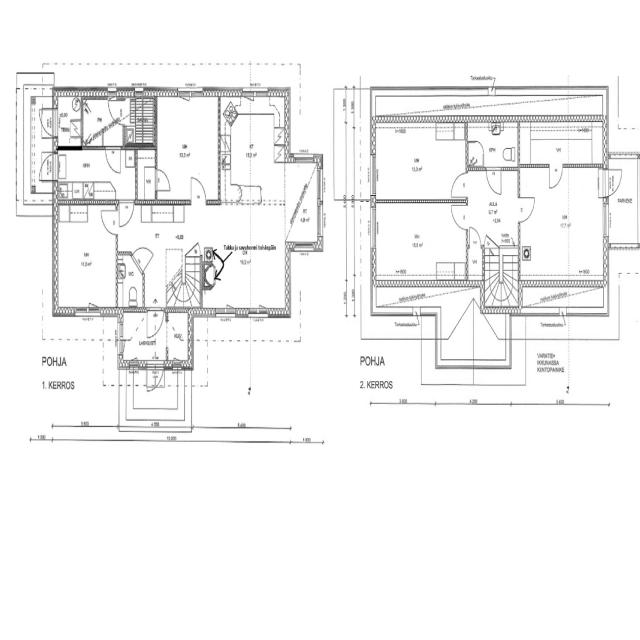door: (132, 237, 154, 274), (603, 170, 626, 197), (147, 361, 164, 397), (36, 154, 58, 181), (146, 308, 164, 341), (36, 110, 58, 136), (486, 168, 502, 197), (119, 200, 134, 230), (191, 176, 206, 205), (108, 101, 126, 125), (106, 145, 120, 175), (101, 211, 118, 235), (518, 198, 535, 222), (484, 221, 499, 248), (451, 206, 467, 230), (185, 232, 200, 257), (452, 174, 468, 197), (155, 170, 170, 191), (550, 164, 562, 188), (470, 227, 481, 248)
